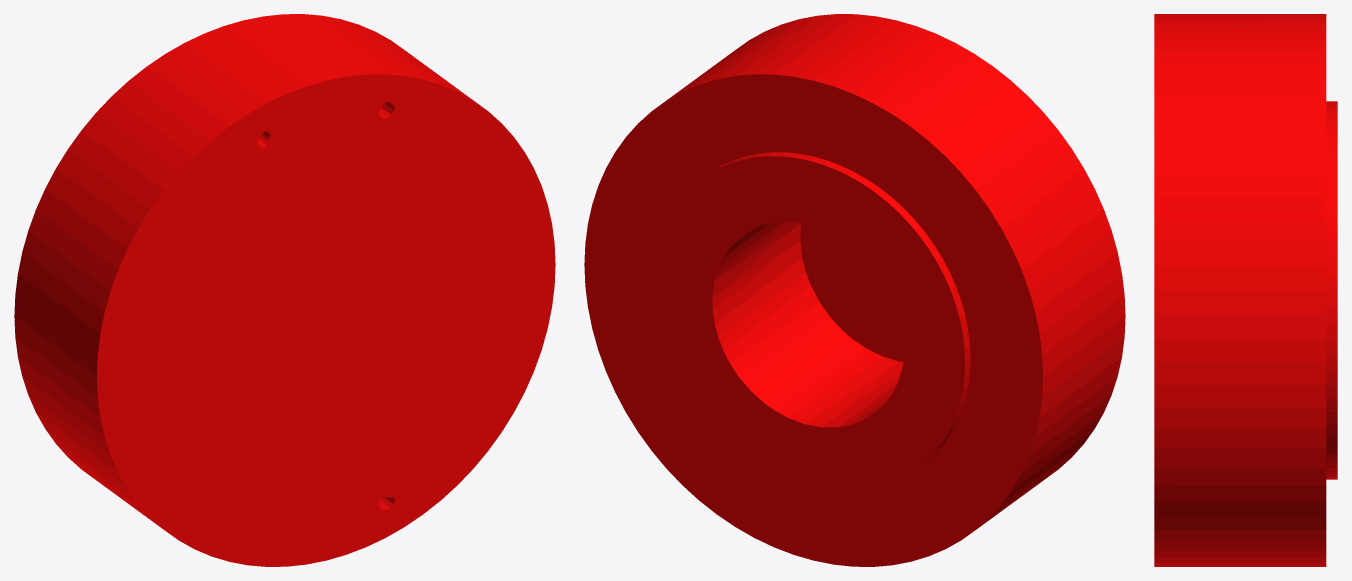
Rendered from legs_1_right_leg_1_x8_1_outer_1.glb.
3 views of the same model, side by side, from view 1: azimuth 30°, elevation 25°; view 2: azimuth 150°, elevation 25°; view 3: azimuth 270°, elevation 25° (orthographic). The views are drawn at different scales.
Parts seen in each view (by area): view 1: legs_1_right_leg_1_x8_1_outer_1.obj; view 2: legs_1_right_leg_1_x8_1_outer_1.obj; view 3: legs_1_right_leg_1_x8_1_outer_1.obj.
Part boxes in pixels (left/top/right/bottom): legs_1_right_leg_1_x8_1_outer_1.obj: left=14, top=14, right=555, bottom=566; legs_1_right_leg_1_x8_1_outer_1.obj: left=584, top=14, right=1125, bottom=566; legs_1_right_leg_1_x8_1_outer_1.obj: left=1154, top=14, right=1337, bottom=566.
Size of the model in its own units: 0.098 by 0.098 by 0.0325.
